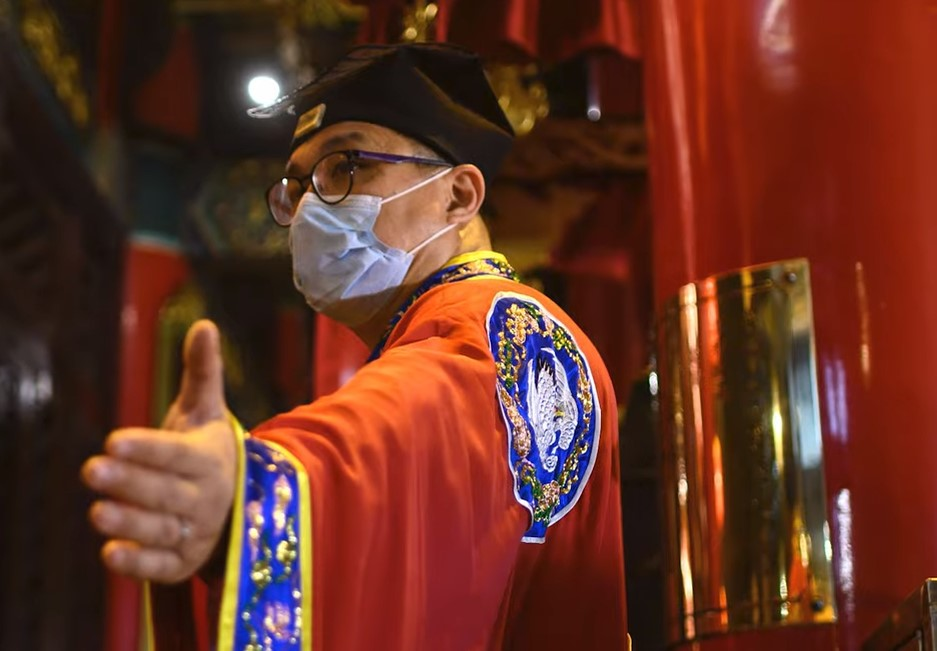face_with_mask: (266, 49, 524, 335)
